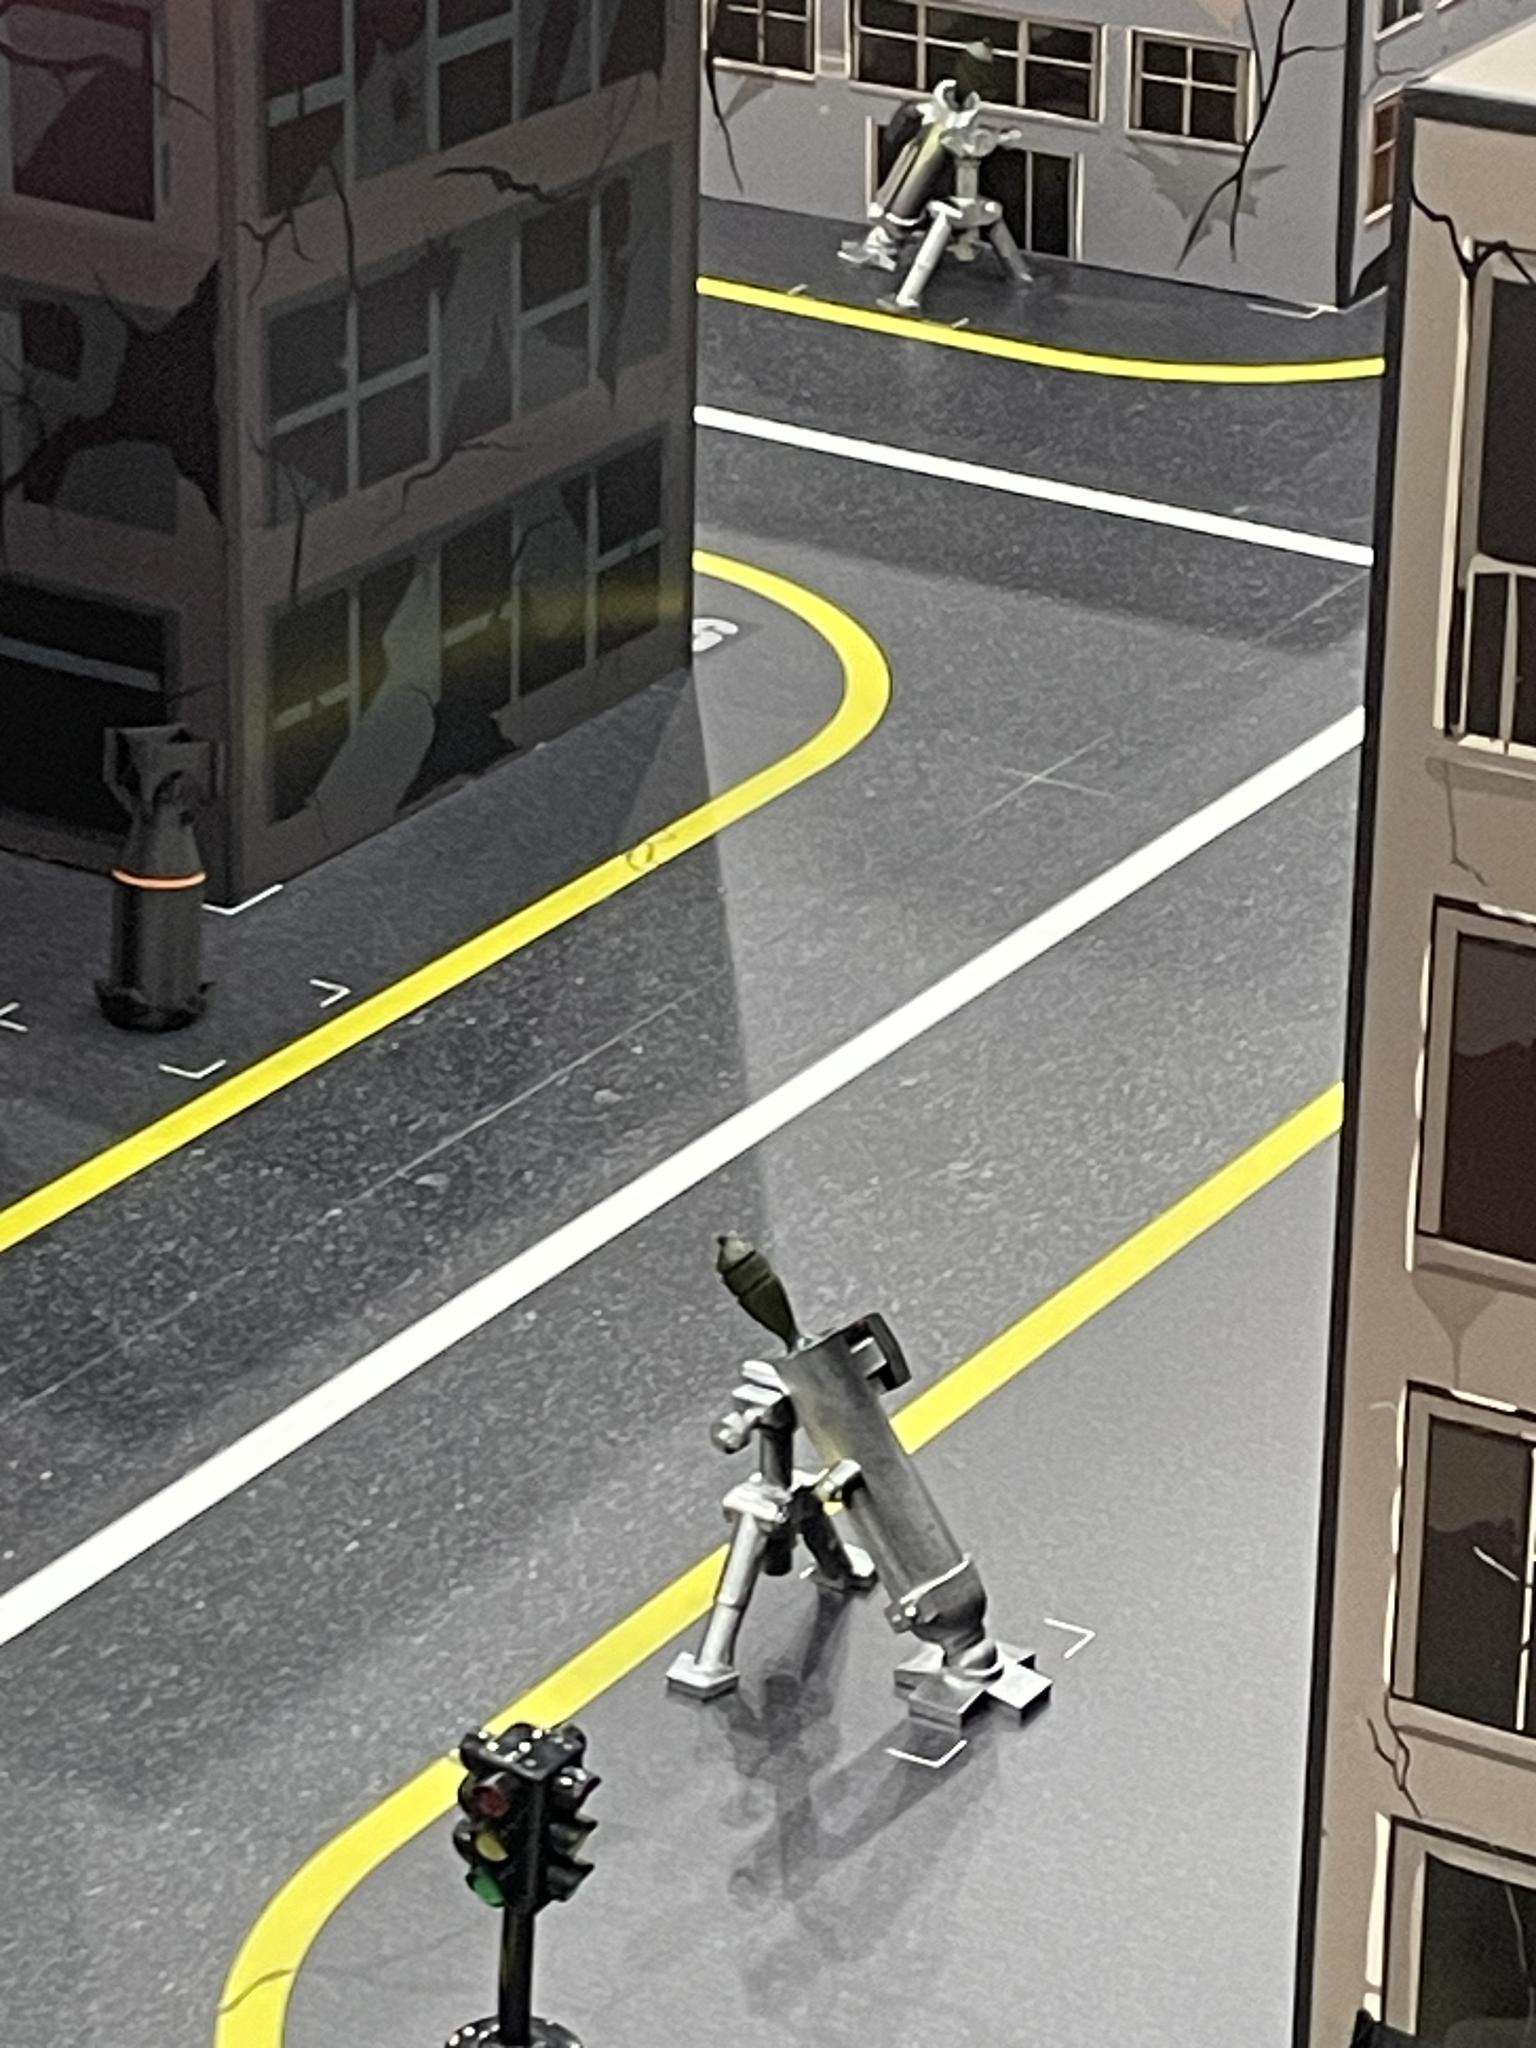Missile: (81, 724, 229, 1034)
Mortar: (673, 1229, 1051, 1765), (833, 56, 1046, 325)
